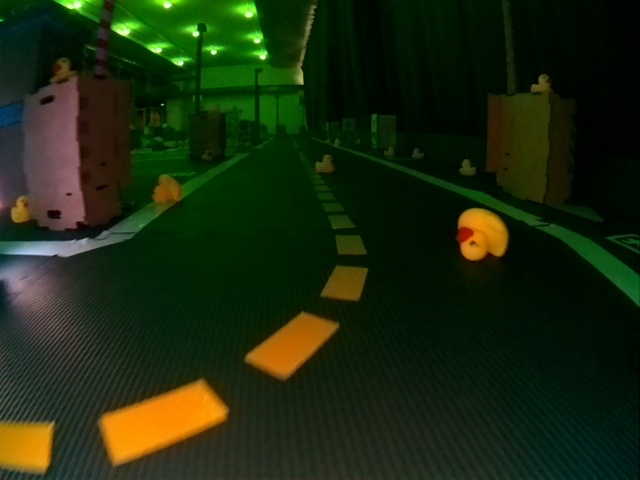Duckie: (457, 208, 507, 261), (153, 174, 182, 203), (10, 196, 31, 223), (51, 58, 75, 80), (315, 154, 334, 172), (534, 74, 552, 93), (459, 159, 476, 175)
